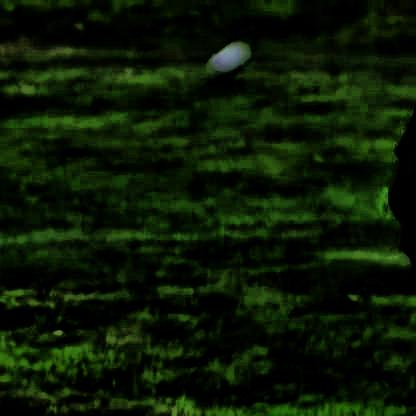golfball: (208, 41, 250, 78)
